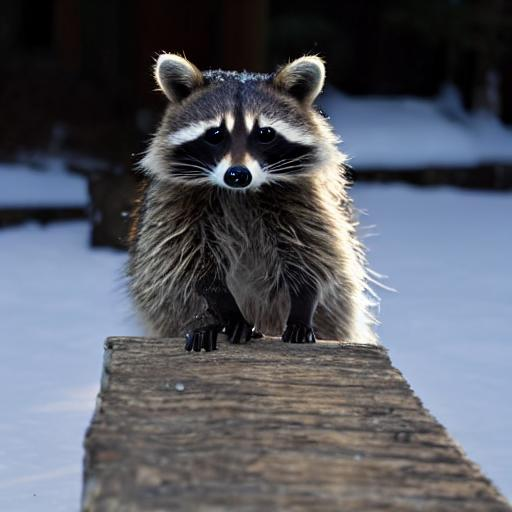raccoon: (121, 42, 382, 329)
